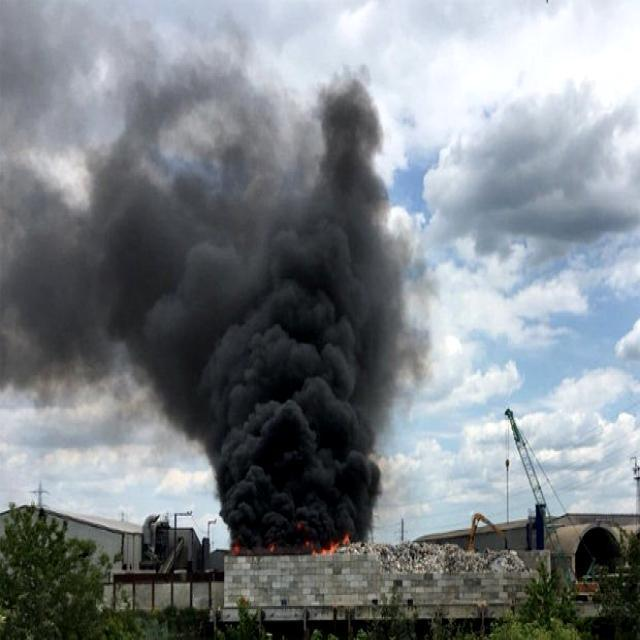Smoke: (0, 0, 266, 379), (195, 107, 406, 544)
